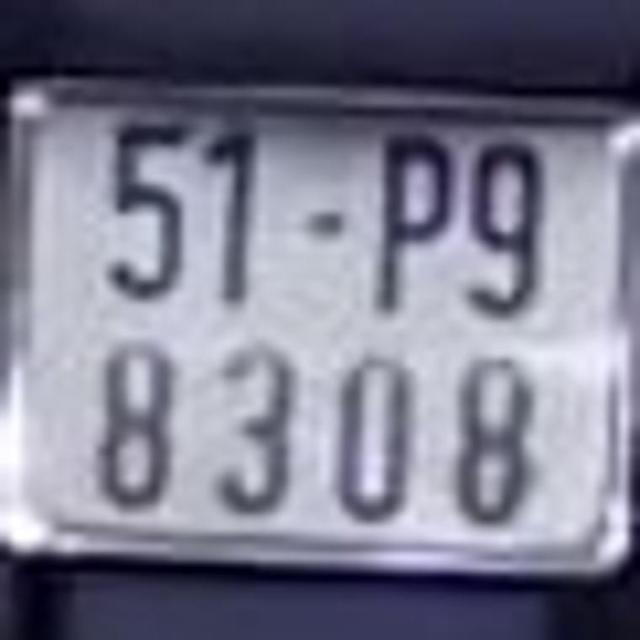0: (332, 341, 417, 525)
1: (200, 115, 264, 308)
3: (214, 332, 297, 518)
5: (103, 113, 191, 304)
8: (454, 350, 534, 526), (97, 336, 175, 512)
9: (464, 133, 544, 322)
P: (369, 123, 455, 320)
